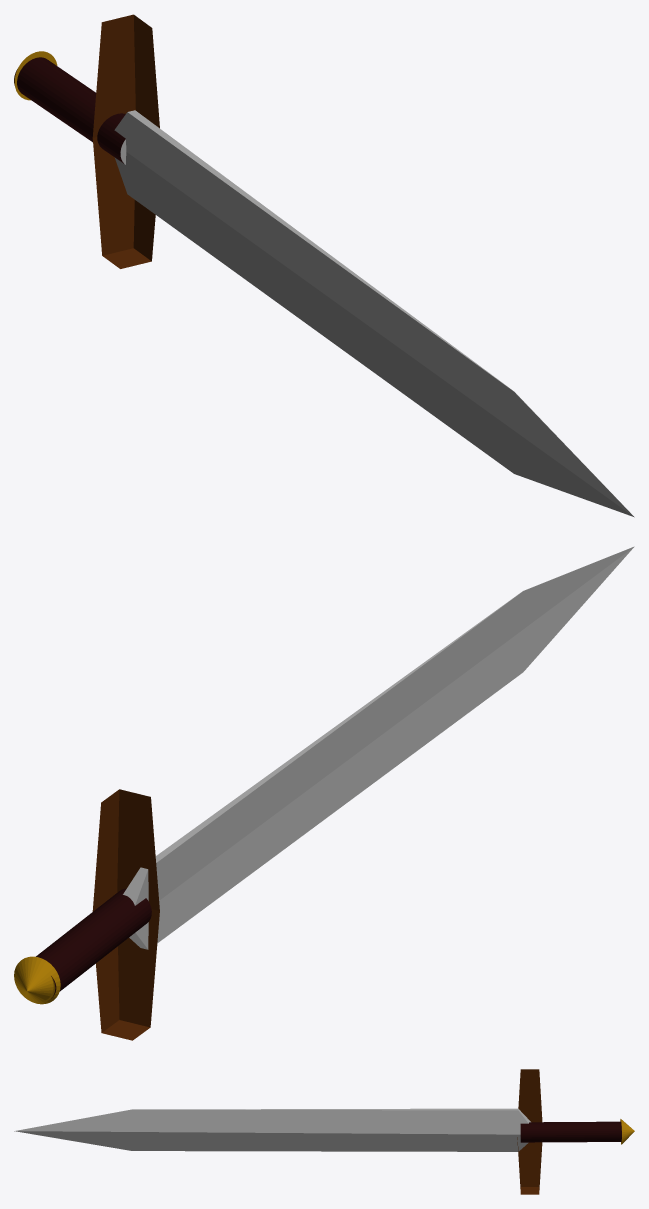
File: EspadaFilosaCON-TEXTURA.fbx
The picture shows the model from 3 angles, top to bottom: view 1: azimuth 30°, elevation 25°; view 2: azimuth 150°, elevation 25°; view 3: azimuth 270°, elevation 25°; orthographic projection. The views are drawn at different scales.
Parts seen in each view (by area): view 1: Espada; view 2: Espada; view 3: Espada.
Part boxes in pixels (left/top/right/bottom): Espada: left=14, top=14, right=634, bottom=517; Espada: left=14, top=546, right=634, bottom=1040; Espada: left=14, top=1069, right=634, bottom=1194.
Size of the model in its own units: 18.29 by 90.12 by 431.
